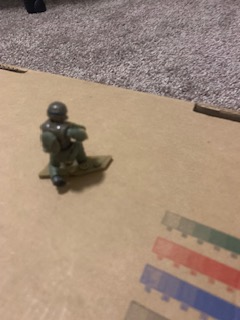soldier: (37, 99, 91, 188)
